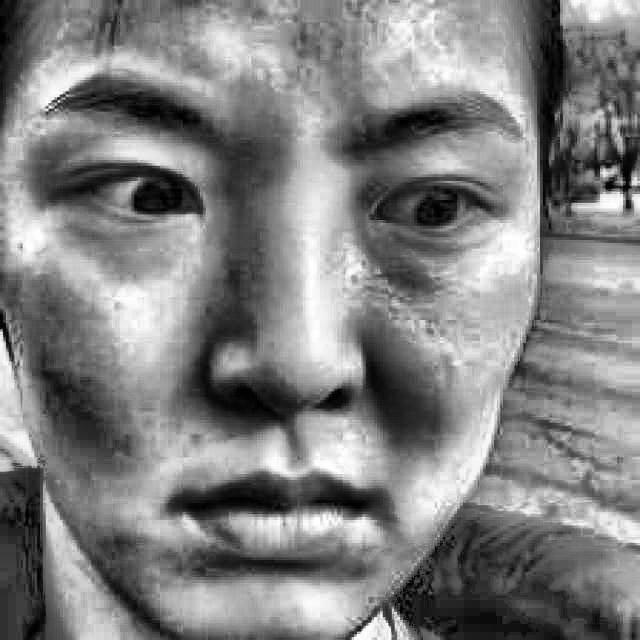fear: (55, 69, 534, 640)
